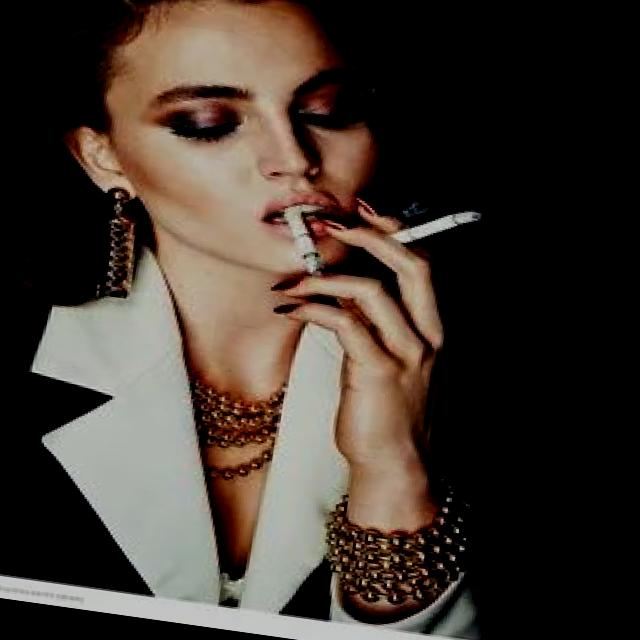cigarette: (376, 188, 486, 273), (264, 202, 341, 286)
